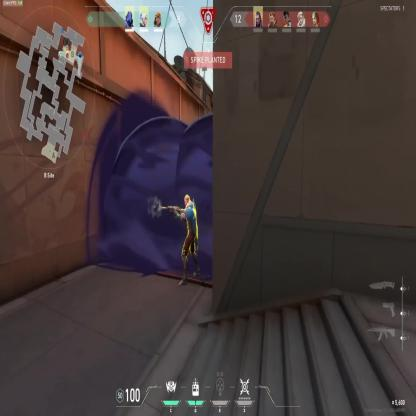enemy: (179, 194, 200, 286)
enemy_head: (184, 193, 190, 207)
